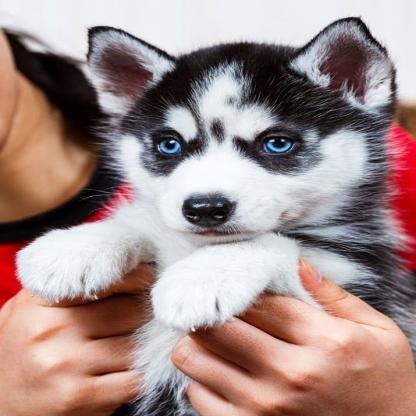dog: (18, 19, 416, 416)
